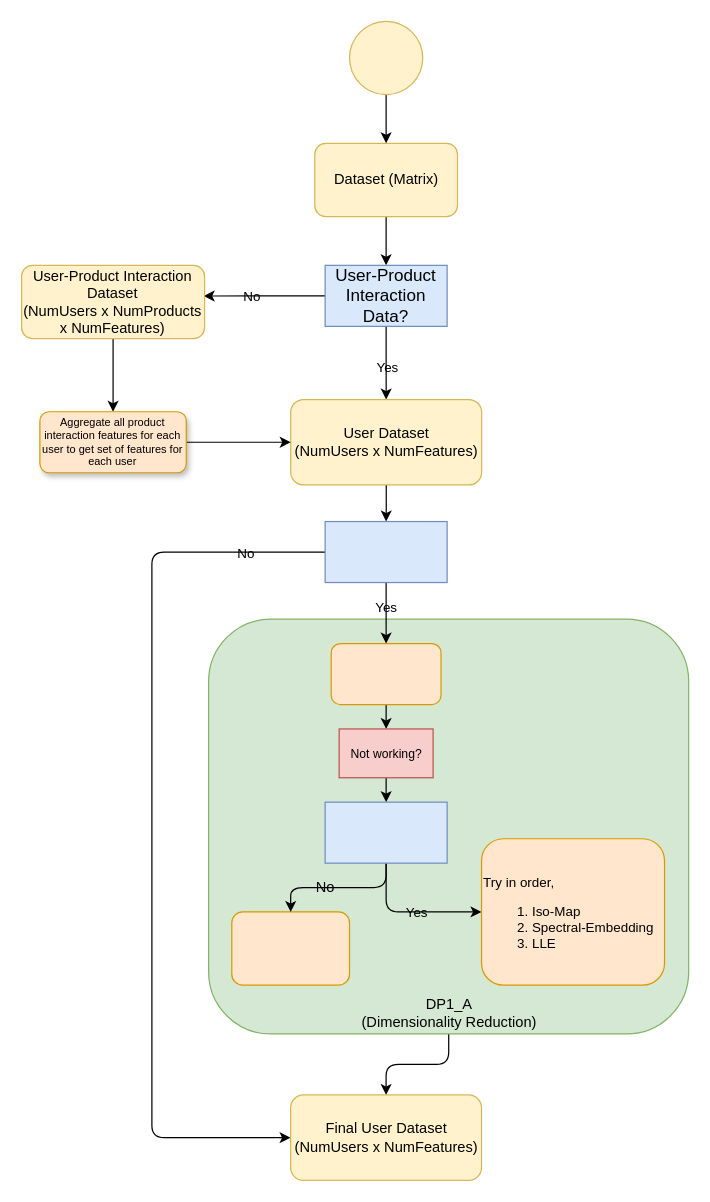
Image size: 710x1202. Some labels were removed from this diagram. Each missing label, with the centre of its shape:
"Kernel Approximation" goes at [290,948].
"NumSamples <10K?" goes at [385,832].
"Randomized PCA" goes at [385,673].
"Start" goes at [385,57].
"Too many features(>25)?" goes at [385,551].
